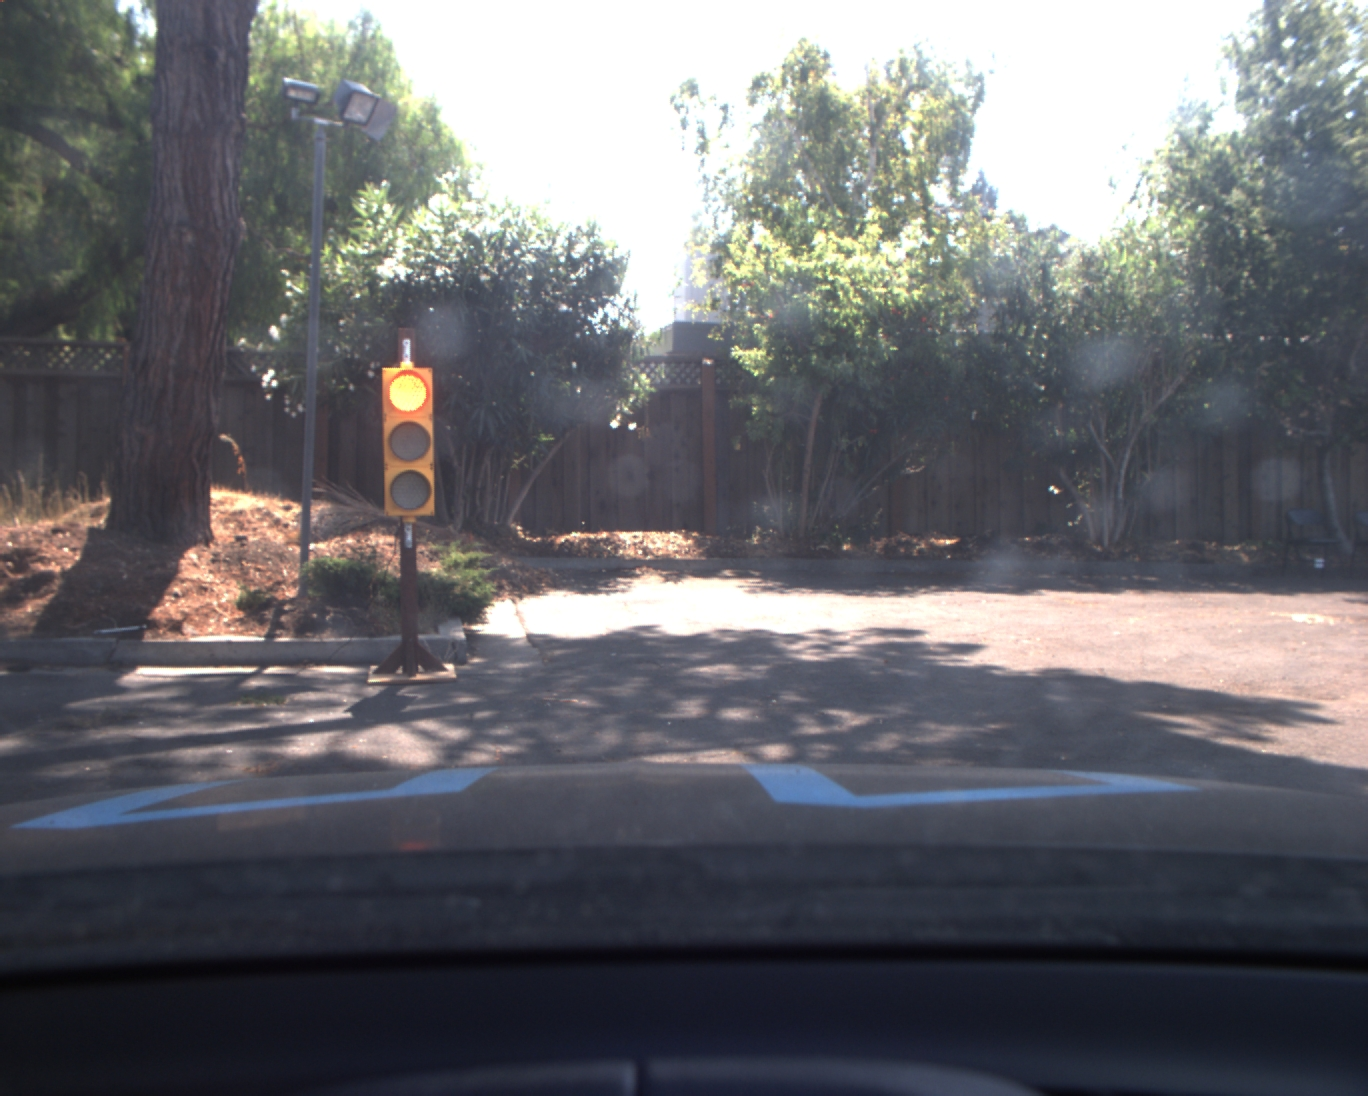red: (383, 365, 437, 519)
